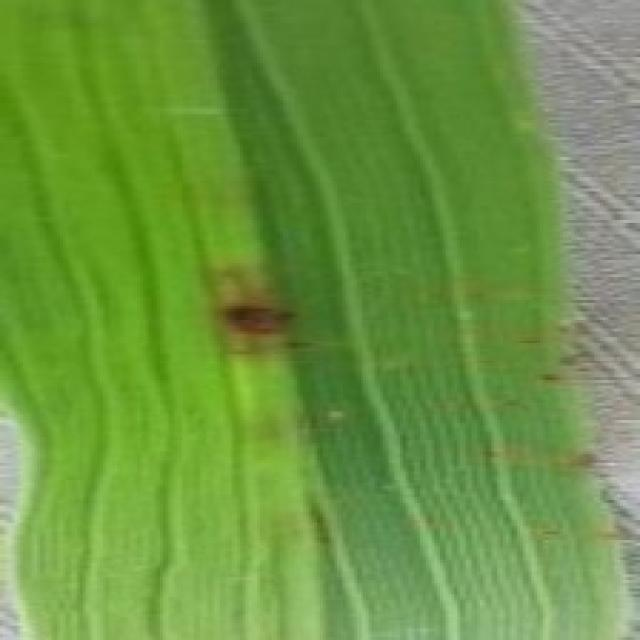Rice___Brown_Spot: (0, 2, 629, 637)
